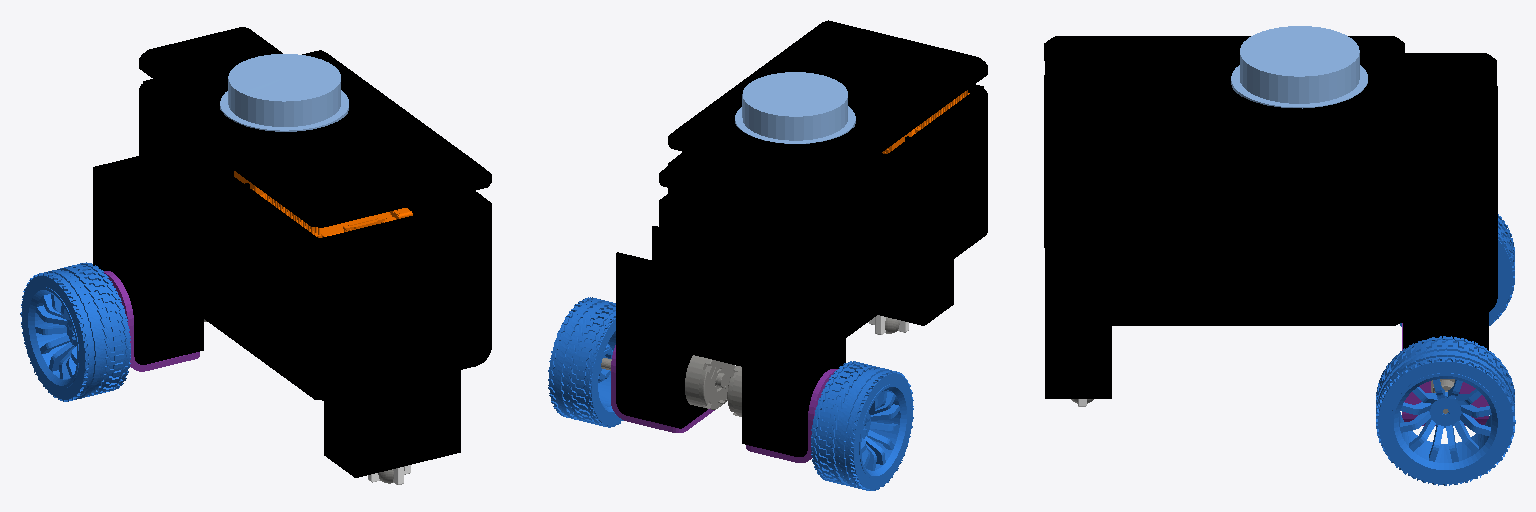
robot.urdf — mosh_b:
<?xml version="1.0"?>
<!-- mosh_b: generated by URDF Forge 2026-11-23T17:18:00.601Z
     Target: ROS 2 Lyrical · Gazebo Jetty
     REP 103: Z-up, metres, kilograms, radians. -->
<robot name="mosh_b">
  <material name="material_1"><color rgba="0 0 0 1"/></material>
  <material name="material_2"><color rgba="0.6039 0.6 0.5882 1"/></material>
  <material name="material_3"><color rgba="0.2078 0.5176 0.8941 1"/></material>
  <material name="material_4"><color rgba="0.6039 0.6 0.5882 1"/></material>
  <material name="material_5"><color rgba="0.2078 0.5176 0.8941 1"/></material>
  <material name="material_6"><color rgba="0.5686 0.2549 0.6745 1"/></material>
  <material name="material_7"><color rgba="0.5686 0.2549 0.6745 1"/></material>
  <material name="material_8"><color rgba="1 1 1 1"/></material>
  <material name="material_9"><color rgba="0.6039 0.6 0.5882 1"/></material>
  <material name="material_10"><color rgba="1 0.4706 0 1"/></material>
  <material name="material_11"><color rgba="0.7529 0.1098 0.1569 1"/></material>
  <material name="material_12"><color rgba="0.9608 0.7608 0.0667 1"/></material>
  <material name="material_13"><color rgba="0.6 0.7569 0.9451 1"/></material>

  <link name="base_footprint">
    <origin xyz="0 0 0" rpy="0 0 0"/>
  </link>

  <link name="drive_base">
    <inertial>
      <origin xyz="-0.00047505 0.00231833 -0.17083372" rpy="0 0 0"/>
      <mass value="0.62985313"/>
      <inertia ixx="0.0025211258" ixy="0.0000127922" ixz="0.0000068878" iyy="0.0028265428" iyz="-0.0000511373" izz="0.0009966661"/>
    </inertial>
    <visual name="drive_base_visual">
      <origin xyz="0.00129909 -0.08792129 -0.09112" rpy="0 0 0"/>
      <geometry><mesh filename="package://mosh_b_description/meshes/drive_base.stl" scale="1 1 1"/></geometry>
      <material name="material_1"/>
    </visual>
    <collision name="drive_base_collision">
      <origin xyz="0.00129909 -0.08792129 -0.09112" rpy="0 0 0"/>
      <geometry><mesh filename="package://mosh_b_description/meshes/drive_base.stl" scale="1 1 1"/></geometry>
    </collision>
  </link>
  <joint name="drive_base_joint" type="fixed">
    <parent link="base_footprint"/>
    <child link="drive_base"/>
    <origin xyz="-0.00129909 0 0.09112" rpy="0 0 0"/>
  </joint>

  <link name="right_motor_Link">
    <inertial>
      <origin xyz="0.00009151 0.0017353 -0.0003766" rpy="0 0 0"/>
      <mass value="0.020237"/>
      <inertia ixx="0.0000020523" ixy="0.0000000001" ixz="-0.0000000079" iyy="0.0000020787" iyz="0.0000000139" izz="0.0000028124"/>
    </inertial>
    <visual name="right_motor_Link_visual">
      <origin xyz="0.02139851 0 0.0192874" rpy="0 0 0"/>
      <geometry><mesh filename="package://mosh_b_description/meshes/right_motor_Link.stl" scale="1 1 1"/></geometry>
      <material name="material_2"/>
    </visual>
    <collision name="right_motor_Link_collision">
      <origin xyz="0.02139851 0 0.0192874" rpy="0 0 0"/>
      <geometry><mesh filename="package://mosh_b_description/meshes/right_motor_Link.stl" scale="1 1 1"/></geometry>
    </collision>
  </link>
  <joint name="drive_right" type="fixed">
    <parent link="drive_base"/>
    <child link="right_motor_Link"/>
    <origin xyz="0.0408177 0.08138209 -0.05162" rpy="-1.57079633 0 -1.57923476"/>
  </joint>

  <link name="right_wheel_Link">
    <inertial>
      <origin xyz="-0.00000146 -0.00017356 0.0000001" rpy="0 0 0"/>
      <mass value="0.047543"/>
      <inertia ixx="0.000019511" ixy="0.0000001335" ixz="-0.0000000003" iyy="0.000033937" iyz="-0.0000000291" izz="0.00001951"/>
    </inertial>
    <visual name="right_wheel_Link_visual">
      <origin xyz="0.02124354 0.01156644 -0.0046239" rpy="0 0 0"/>
      <geometry><mesh filename="package://mosh_b_description/meshes/right_wheel_Link.stl" scale="1 1 1"/></geometry>
      <material name="material_3"/>
    </visual>
    <collision name="right_wheel_Link_collision">
      <origin xyz="0.02124354 0.01156644 -0.0046239" rpy="0 0 0"/>
      <geometry><mesh filename="package://mosh_b_description/meshes/right_wheel_Link.stl" scale="1 1 1"/></geometry>
    </collision>
  </link>
  <joint name="right_motor_wheel_joint" type="continuous">
    <parent link="right_motor_Link"/>
    <child link="right_wheel_Link"/>
    <origin xyz="-0.00034244 0.00700044 0.03935382" rpy="-1.5708 0 0.2143"/>
    <axis xyz="0 1 0"/>
    <limit effort="10" velocity="100"/>
  </joint>

  <link name="left_motor_Link">
    <inertial>
      <origin xyz="0.00009098 0.0017353 -0.00037626" rpy="0 0 0"/>
      <mass value="0.020237"/>
      <inertia ixx="0.0000020523" ixy="0.0000000001" ixz="-0.0000000079" iyy="0.0000020787" iyz="0.0000000139" izz="0.0000028124"/>
    </inertial>
    <visual name="left_motor_Link_visual">
      <origin xyz="-0.02056502 0 0.01608174" rpy="0 0 0"/>
      <geometry><mesh filename="package://mosh_b_description/meshes/left_motor_Link.stl" scale="1 1 1"/></geometry>
      <material name="material_4"/>
    </visual>
    <collision name="left_motor_Link_collision">
      <origin xyz="-0.02056502 0 0.01608174" rpy="0 0 0"/>
      <geometry><mesh filename="package://mosh_b_description/meshes/left_motor_Link.stl" scale="1 1 1"/></geometry>
    </collision>
  </link>
  <joint name="drive_left_motor" type="fixed">
    <parent link="drive_base"/>
    <child link="left_motor_Link"/>
    <origin xyz="-0.04081807 0.08123798 -0.05161994" rpy="-1.5708 0 1.5624"/>
  </joint>

  <link name="left_motor_wheel">
    <inertial>
      <origin xyz="-0.00000185 -0.00017337 0.00000007" rpy="0 0 0"/>
      <mass value="0.04754323"/>
      <inertia ixx="0.0000195113" ixy="0.0000001335" ixz="-0.0000000003" iyy="0.0000339375" iyz="-0.0000000291" izz="0.0000195101"/>
    </inertial>
    <visual name="left_motor_wheel_visual">
      <origin xyz="-0.01976006 0.0147721 0.00430036" rpy="0 0 0"/>
      <geometry><mesh filename="package://mosh_b_description/meshes/left_motor_wheel.stl" scale="1 1 1"/></geometry>
      <material name="material_5"/>
    </visual>
    <collision name="left_motor_wheel_collision">
      <origin xyz="-0.01976006 0.0147721 0.00430036" rpy="0 0 0"/>
      <geometry><mesh filename="package://mosh_b_description/meshes/left_motor_wheel.stl" scale="1 1 1"/></geometry>
    </collision>
  </link>
  <joint name="left_motor_wheel_joint" type="continuous">
    <parent link="left_motor_Link"/>
    <child link="left_motor_wheel"/>
    <origin xyz="-0.00034243 0.00700033 0.03935383" rpy="-1.57079633 0 0.21430349"/>
    <axis xyz="0 1 0"/>
    <limit effort="10" velocity="100"/>
  </joint>

  <link name="right_bracket_Link">
    <inertial>
      <origin xyz="0.00066538 -0.00878069 -0.01117956" rpy="0 0 0"/>
      <mass value="0.0095693"/>
      <inertia ixx="0.0000034197" ixy="-0.00000001" ixz="-0.0000000042" iyy="0.0000031272" iyz="-0.000001054" izz="0.000002975"/>
    </inertial>
    <visual name="right_bracket_Link_visual">
      <origin xyz="-0.04094662 -0.01956769 -0.04642056" rpy="0 0 0"/>
      <geometry><mesh filename="package://mosh_b_description/meshes/right_bracket_Link.stl" scale="1 1 1"/></geometry>
      <material name="material_6"/>
    </visual>
    <collision name="right_bracket_Link_collision">
      <origin xyz="-0.04094662 -0.01956769 -0.04642056" rpy="0 0 0"/>
      <geometry><mesh filename="package://mosh_b_description/meshes/right_bracket_Link.stl" scale="1 1 1"/></geometry>
    </collision>
  </link>
  <joint name="right_drive_bracket_joint" type="fixed">
    <parent link="drive_base"/>
    <child link="right_bracket_Link"/>
    <origin xyz="0.05918488 0.08055413 -0.05887748" rpy="1.5708 0 1.5624"/>
  </joint>

  <link name="left_bracket_Link">
    <inertial>
      <origin xyz="0.00093854 -0.00911655 -0.01108967" rpy="0 0 0"/>
      <mass value="0.0095693"/>
      <inertia ixx="0.0000034197" ixy="-0.00000001" ixz="-0.0000000042" iyy="0.0000031272" iyz="-0.000001054" izz="0.000002975"/>
    </inertial>
    <visual name="left_bracket_Link_visual">
      <origin xyz="0.00129055 -0.01990355 -0.04953567" rpy="0 0 0"/>
      <geometry><mesh filename="package://mosh_b_description/meshes/left_bracket_Link.stl" scale="1 1 1"/></geometry>
      <material name="material_7"/>
    </visual>
    <collision name="left_bracket_Link_collision">
      <origin xyz="0.00129055 -0.01990355 -0.04953567" rpy="0 0 0"/>
      <geometry><mesh filename="package://mosh_b_description/meshes/left_bracket_Link.stl" scale="1 1 1"/></geometry>
    </collision>
  </link>
  <joint name="left_drive_bracket_joint" type="fixed">
    <parent link="drive_base"/>
    <child link="left_bracket_Link"/>
    <origin xyz="-0.05909406 0.08224549 -0.05854163" rpy="1.5708 0 -1.5792"/>
  </joint>

  <link name="castor_frame_Link">
    <inertial>
      <origin xyz="0 0 0" rpy="0 0 0"/>
      <mass value="0.0032177"/>
      <inertia ixx="0.0000001763" ixy="0.0000000025" ixz="0.0000000003" iyy="0.0000004415" iyz="0" izz="0.0000004877"/>
    </inertial>
    <visual name="castor_frame_Link_visual">
      <origin xyz="-0.00002099 0.0000002 0.015845" rpy="0 0 0"/>
      <geometry><mesh filename="package://mosh_b_description/meshes/castor_frame_Link.stl" scale="1 1 1"/></geometry>
      <material name="material_8"/>
    </visual>
    <collision name="castor_frame_Link_collision">
      <origin xyz="-0.00002099 0.0000002 0.015845" rpy="0 0 0"/>
      <geometry><mesh filename="package://mosh_b_description/meshes/castor_frame_Link.stl" scale="1 1 1"/></geometry>
    </collision>
  </link>
  <joint name="drive_castorFrame_joint" type="fixed">
    <parent link="drive_base"/>
    <child link="castor_frame_Link"/>
    <origin xyz="0.0012781 -0.08792143 -0.075275" rpy="3.14158531 0 3.1333"/>
  </joint>

  <link name="castor_wheel_Link">
    <inertial>
      <origin xyz="-0.00000542 0 0.00000227" rpy="0 0 0"/>
      <mass value="0.00176715"/>
      <inertia ixx="0.0000000398" ixy="0" ixz="0" iyy="0.0000000398" iyz="0" izz="0.0000000398"/>
    </inertial>
    <visual name="castor_wheel_Link_visual">
      <origin xyz="-0.00000542 -0.0075 0.00000227" rpy="0 0 0"/>
      <geometry><mesh filename="package://mosh_b_description/meshes/castor_wheel_Link.stl" scale="1 1 1"/></geometry>
      <material name="material_9"/>
    </visual>
    <collision name="castor_wheel_Link_collision">
      <origin xyz="-0.00000542 -0.0075 0.00000227" rpy="0 0 0"/>
      <geometry><mesh filename="package://mosh_b_description/meshes/castor_wheel_Link.stl" scale="1 1 1"/></geometry>
    </collision>
  </link>
  <joint name="caster_wheel_joint" type="continuous">
    <parent link="castor_frame_Link"/>
    <child link="castor_wheel_Link"/>
    <origin xyz="-0.00001889 0.00000569 0.008345" rpy="-1.57079633 0 1.60196599"/>
    <axis xyz="0 0 1"/>
    <limit effort="10" velocity="100"/>
  </joint>

  <link name="raspberry_pi_Link">
    <inertial>
      <origin xyz="0 0.00755418 -0.00000003" rpy="0 0 0"/>
      <mass value="0.018782"/>
      <inertia ixx="0.0000022836" ixy="-0.0000000062" ixz="0.0000000359" iyy="0.0000069807" iyz="0.0000000002" izz="0.0000050181"/>
    </inertial>
    <visual name="raspberry_pi_Link_visual">
      <origin xyz="-0.01436 -0.00463882 0.00095976" rpy="0 0 0"/>
      <geometry><mesh filename="package://mosh_b_description/meshes/raspberry_pi_Link.stl" scale="1 1 1"/></geometry>
      <material name="material_10"/>
    </visual>
    <collision name="raspberry_pi_Link_collision">
      <origin xyz="-0.01436 -0.00463882 0.00095976" rpy="0 0 0"/>
      <geometry><mesh filename="package://mosh_b_description/meshes/raspberry_pi_Link.stl" scale="1 1 1"/></geometry>
    </collision>
  </link>
  <joint name="drive_raspPi_joint" type="fixed">
    <parent link="drive_base"/>
    <child link="raspberry_pi_Link"/>
    <origin xyz="-0.01891105 -0.04345674 0.04888883" rpy="1.5708 0 1.5624"/>
  </joint>

  <link name="l298n_Link">
    <inertial>
      <origin xyz="0 0.00773565 -0.00000003" rpy="0 0 0"/>
      <mass value="0.0074851"/>
      <inertia ixx="0.0000011237" ixy="0.0000002216" ixz="-0.0000000386" iyy="0.0000019059" iyz="-0.0000000021" izz="0.000001373"/>
    </inertial>
    <visual name="l298n_Link_visual">
      <origin xyz="0.0082186 0.01165785 -0.00047267" rpy="0 0 0"/>
      <geometry><mesh filename="package://mosh_b_description/meshes/l298n_Link.stl" scale="1 1 1"/></geometry>
      <material name="material_11"/>
    </visual>
    <collision name="l298n_Link_collision">
      <origin xyz="0.0082186 0.01165785 -0.00047267" rpy="0 0 0"/>
      <geometry><mesh filename="package://mosh_b_description/meshes/l298n_Link.stl" scale="1 1 1"/></geometry>
    </collision>
  </link>
  <joint name="drive_l298n_joint" type="fixed">
    <parent link="drive_base"/>
    <child link="l298n_Link"/>
    <origin xyz="-0.00147042 0.07964684 -0.02394885" rpy="1.5708 0 -1.5698"/>
  </joint>

  <link name="buck_converter_Link">
    <inertial>
      <origin xyz="-0.0010915 0.01045079 0.00001715" rpy="0 0 0"/>
      <mass value="0.024393"/>
      <inertia ixx="0.0000012157" ixy="0.0000000005" ixz="0" iyy="0.000003874" iyz="0" izz="0.0000037052"/>
    </inertial>
    <visual name="buck_converter_Link_visual">
      <origin xyz="0 0.00147189 -0.00000001" rpy="0 0 0"/>
      <geometry><mesh filename="package://mosh_b_description/meshes/buck_converter_Link.stl" scale="1 1 1"/></geometry>
      <material name="material_12"/>
    </visual>
    <collision name="buck_converter_Link_collision">
      <origin xyz="0 0.00147189 -0.00000001" rpy="0 0 0"/>
      <geometry><mesh filename="package://mosh_b_description/meshes/buck_converter_Link.stl" scale="1 1 1"/></geometry>
    </collision>
  </link>
  <joint name="drive_xl4016_joint" type="fixed">
    <parent link="drive_base"/>
    <child link="buck_converter_Link"/>
    <origin xyz="-0.02324191 0.02483871 0.00887811" rpy="1.5708 0 -1.5698"/>
  </joint>

  <link name="lidar_Link">
    <inertial>
      <origin xyz="0.00002186 0.00006744 -0.01344365" rpy="0 0 0"/>
      <mass value="0.024644"/>
      <inertia ixx="0.0000078033" ixy="0.0000000277" ixz="-0.0000000124" iyy="0.0000075949" iyz="0.0000000113" izz="0.000013653"/>
    </inertial>
    <visual name="lidar_Link_visual">
      <origin xyz="0 0.00000574 -0.01385795" rpy="0 0 0"/>
      <geometry><mesh filename="package://mosh_b_description/meshes/lidar_Link.stl" scale="1 1 1"/></geometry>
      <material name="material_13"/>
    </visual>
    <collision name="lidar_Link_collision">
      <origin xyz="0 0.00000574 -0.01385795" rpy="0 0 0"/>
      <geometry><mesh filename="package://mosh_b_description/meshes/lidar_Link.stl" scale="1 1 1"/></geometry>
    </collision>
  </link>
  <joint name="drive_lidar_joint" type="continuous">
    <parent link="drive_base"/>
    <child link="lidar_Link"/>
    <origin xyz="-0.00005315 0.01338882 0.08885796" rpy="0 0 -1.5904"/>
    <axis xyz="0 0 1"/>
    <limit effort="10" velocity="2"/>
  </joint>

  <!-- Simulator: Gazebo Jetty -->
  <gazebo reference="base_footprint">
    <mu1>0.8</mu1>
    <mu2>0.8</mu2>
    <kp>1000000</kp>
    <kd>100</kd>
    <minDepth>0.001</minDepth>
    <maxVel>0.01</maxVel>
    <selfCollide>false</selfCollide>
    <visual>
      <material>
        <ambient>0 0 0 1</ambient>
        <diffuse>0 0 0 1</diffuse>
        <specular>0.1 0.1 0.1 1</specular>
        <pbr><metal><metalness>0.15</metalness><roughness>0.55</roughness></metal></pbr>
      </material>
    </visual>
  </gazebo>
  <gazebo reference="drive_base">
    <mu1>0.8</mu1>
    <mu2>0.8</mu2>
    <kp>1000000</kp>
    <kd>100</kd>
    <minDepth>0.001</minDepth>
    <maxVel>0.01</maxVel>
    <selfCollide>false</selfCollide>
    <visual>
      <material>
        <ambient>0 0 0 1</ambient>
        <diffuse>0 0 0 1</diffuse>
        <specular>0.1 0.1 0.1 1</specular>
        <pbr><metal><metalness>0.15</metalness><roughness>0.55</roughness></metal></pbr>
      </material>
    </visual>
  </gazebo>
  <gazebo reference="right_motor_Link">
    <mu1>0.8</mu1>
    <mu2>0.8</mu2>
    <kp>1000000</kp>
    <kd>100</kd>
    <minDepth>0.001</minDepth>
    <maxVel>0.01</maxVel>
    <selfCollide>false</selfCollide>
    <visual>
      <material>
        <ambient>0.6039 0.6 0.5882 1</ambient>
        <diffuse>0.6039 0.6 0.5882 1</diffuse>
        <specular>0.1 0.1 0.1 1</specular>
        <pbr><metal><metalness>0.15</metalness><roughness>0.55</roughness></metal></pbr>
      </material>
    </visual>
  </gazebo>
  <gazebo reference="right_wheel_Link">
    <mu1>0.8</mu1>
    <mu2>0.8</mu2>
    <kp>1000000</kp>
    <kd>100</kd>
    <minDepth>0.001</minDepth>
    <maxVel>0.01</maxVel>
    <selfCollide>false</selfCollide>
    <visual>
      <material>
        <ambient>0.2078 0.5176 0.8941 1</ambient>
        <diffuse>0.2078 0.5176 0.8941 1</diffuse>
        <specular>0.1 0.1 0.1 1</specular>
        <pbr><metal><metalness>0.15</metalness><roughness>0.55</roughness></metal></pbr>
      </material>
    </visual>
  </gazebo>
  <gazebo reference="left_motor_Link">
    <mu1>0.8</mu1>
    <mu2>0.8</mu2>
    <kp>1000000</kp>
    <kd>100</kd>
    <minDepth>0.001</minDepth>
    <maxVel>0.01</maxVel>
    <selfCollide>false</selfCollide>
    <visual>
      <material>
        <ambient>0.6039 0.6 0.5882 1</ambient>
        <diffuse>0.6039 0.6 0.5882 1</diffuse>
        <specular>0.1 0.1 0.1 1</specular>
        <pbr><metal><metalness>0.15</metalness><roughness>0.55</roughness></metal></pbr>
      </material>
    </visual>
  </gazebo>
  <gazebo reference="left_motor_wheel">
    <mu1>0.8</mu1>
    <mu2>0.8</mu2>
    <kp>1000000</kp>
    <kd>100</kd>
    <minDepth>0.001</minDepth>
    <maxVel>0.01</maxVel>
    <selfCollide>false</selfCollide>
    <visual>
      <material>
        <ambient>0.2078 0.5176 0.8941 1</ambient>
        <diffuse>0.2078 0.5176 0.8941 1</diffuse>
        <specular>0.1 0.1 0.1 1</specular>
        <pbr><metal><metalness>0.15</metalness><roughness>0.55</roughness></metal></pbr>
      </material>
    </visual>
  </gazebo>
  <gazebo reference="right_bracket_Link">
    <mu1>0.8</mu1>
    <mu2>0.8</mu2>
    <kp>1000000</kp>
    <kd>100</kd>
    <minDepth>0.001</minDepth>
    <maxVel>0.01</maxVel>
    <selfCollide>false</selfCollide>
    <visual>
      <material>
        <ambient>0.5686 0.2549 0.6745 1</ambient>
        <diffuse>0.5686 0.2549 0.6745 1</diffuse>
        <specular>0.1 0.1 0.1 1</specular>
        <pbr><metal><metalness>0.15</metalness><roughness>0.55</roughness></metal></pbr>
      </material>
    </visual>
  </gazebo>
  <gazebo reference="left_bracket_Link">
    <mu1>0.8</mu1>
    <mu2>0.8</mu2>
    <kp>1000000</kp>
    <kd>100</kd>
    <minDepth>0.001</minDepth>
    <maxVel>0.01</maxVel>
    <selfCollide>false</selfCollide>
    <visual>
      <material>
        <ambient>0.5686 0.2549 0.6745 1</ambient>
        <diffuse>0.5686 0.2549 0.6745 1</diffuse>
        <specular>0.1 0.1 0.1 1</specular>
        <pbr><metal><metalness>0.15</metalness><roughness>0.55</roughness></metal></pbr>
      </material>
    </visual>
  </gazebo>
  <gazebo reference="castor_frame_Link">
    <mu1>0.8</mu1>
    <mu2>0.8</mu2>
    <kp>1000000</kp>
    <kd>100</kd>
    <minDepth>0.001</minDepth>
    <maxVel>0.01</maxVel>
    <selfCollide>false</selfCollide>
    <visual>
      <material>
        <ambient>1 1 1 1</ambient>
        <diffuse>1 1 1 1</diffuse>
        <specular>0.1 0.1 0.1 1</specular>
        <pbr><metal><metalness>0.15</metalness><roughness>0.55</roughness></metal></pbr>
      </material>
    </visual>
  </gazebo>
  <gazebo reference="castor_wheel_Link">
    <mu1>0.8</mu1>
    <mu2>0.8</mu2>
    <kp>1000000</kp>
    <kd>100</kd>
    <minDepth>0.001</minDepth>
    <maxVel>0.01</maxVel>
    <selfCollide>false</selfCollide>
    <visual>
      <material>
        <ambient>0.6039 0.6 0.5882 1</ambient>
        <diffuse>0.6039 0.6 0.5882 1</diffuse>
        <specular>0.1 0.1 0.1 1</specular>
        <pbr><metal><metalness>0.15</metalness><roughness>0.55</roughness></metal></pbr>
      </material>
    </visual>
  </gazebo>
  <gazebo reference="raspberry_pi_Link">
    <mu1>0.8</mu1>
    <mu2>0.8</mu2>
    <kp>1000000</kp>
    <kd>100</kd>
    <minDepth>0.001</minDepth>
    <maxVel>0.01</maxVel>
    <selfCollide>false</selfCollide>
    <visual>
      <material>
        <ambient>1 0.4706 0 1</ambient>
        <diffuse>1 0.4706 0 1</diffuse>
        <specular>0.1 0.1 0.1 1</specular>
        <pbr><metal><metalness>0.15</metalness><roughness>0.55</roughness></metal></pbr>
      </material>
    </visual>
  </gazebo>
  <gazebo reference="l298n_Link">
    <mu1>0.8</mu1>
    <mu2>0.8</mu2>
    <kp>1000000</kp>
    <kd>100</kd>
    <minDepth>0.001</minDepth>
    <maxVel>0.01</maxVel>
    <selfCollide>false</selfCollide>
    <visual>
      <material>
        <ambient>0.7529 0.1098 0.1569 1</ambient>
        <diffuse>0.7529 0.1098 0.1569 1</diffuse>
        <specular>0.1 0.1 0.1 1</specular>
        <pbr><metal><metalness>0.15</metalness><roughness>0.55</roughness></metal></pbr>
      </material>
    </visual>
  </gazebo>
  <gazebo reference="buck_converter_Link">
    <mu1>0.8</mu1>
    <mu2>0.8</mu2>
    <kp>1000000</kp>
    <kd>100</kd>
    <minDepth>0.001</minDepth>
    <maxVel>0.01</maxVel>
    <selfCollide>false</selfCollide>
    <visual>
      <material>
        <ambient>0.9608 0.7608 0.0667 1</ambient>
        <diffuse>0.9608 0.7608 0.0667 1</diffuse>
        <specular>0.1 0.1 0.1 1</specular>
        <pbr><metal><metalness>0.15</metalness><roughness>0.55</roughness></metal></pbr>
      </material>
    </visual>
  </gazebo>
  <gazebo reference="lidar_Link">
    <mu1>0.8</mu1>
    <mu2>0.8</mu2>
    <kp>1000000</kp>
    <kd>100</kd>
    <minDepth>0.001</minDepth>
    <maxVel>0.01</maxVel>
    <selfCollide>false</selfCollide>
    <visual>
      <material>
        <ambient>0.6 0.7569 0.9451 1</ambient>
        <diffuse>0.6 0.7569 0.9451 1</diffuse>
        <specular>0.1 0.1 0.1 1</specular>
        <pbr><metal><metalness>0.15</metalness><roughness>0.55</roughness></metal></pbr>
      </material>
    </visual>
  </gazebo>
  <gazebo>
    <plugin filename="gz-sim-joint-state-publisher-system" name="gz::sim::systems::JointStatePublisher">
      <topic>joint_states</topic>
    </plugin>
  </gazebo>
</robot>

--- Facts derived from the render (not from the file) ---
Views: 3 orthographic renders of the robot side by side, from view 1: azimuth 30°, elevation 25°; view 2: azimuth 150°, elevation 25°; view 3: azimuth 270°, elevation 25°.
Robot: mosh_b — 14 links, 13 joints (4 continuous, 9 fixed); root link base_footprint; default pose: all joints at 0.
Visible links, largest first — view 1: drive_base, left_motor_wheel, lidar_Link, raspberry_pi_Link, left_bracket_Link; view 2: drive_base, left_motor_wheel, lidar_Link, right_wheel_Link, right_motor_Link, left_bracket_Link, right_bracket_Link, left_motor_Link; view 3: drive_base, right_wheel_Link, lidar_Link, left_motor_wheel, right_bracket_Link.
Link boxes in pixels (x1,y1,x2,y2): drive_base: (93, 27, 491, 477); left_motor_wheel: (20, 262, 130, 401); lidar_Link: (220, 54, 348, 131); raspberry_pi_Link: (234, 171, 412, 237); left_bracket_Link: (104, 271, 199, 371); drive_base: (616, 20, 987, 456); left_motor_wheel: (811, 361, 913, 490); lidar_Link: (735, 72, 855, 143); right_wheel_Link: (548, 297, 623, 427); right_motor_Link: (601, 355, 734, 409); left_bracket_Link: (746, 369, 837, 462); right_bracket_Link: (611, 345, 714, 432); left_motor_Link: (727, 366, 741, 416); drive_base: (1044, 36, 1497, 398); right_wheel_Link: (1376, 336, 1515, 485); lidar_Link: (1231, 26, 1367, 108); left_motor_wheel: (1400, 214, 1514, 326); right_bracket_Link: (1402, 381, 1488, 425).
Bounding box of the posed robot: 0.1869 × 0.2194 × 0.1801 m (x, y, z).
12 mesh visuals loaded from 13 distinct referenced files (12 binary STL); not drawn: 1 (reference not matched to a file when rendering).
